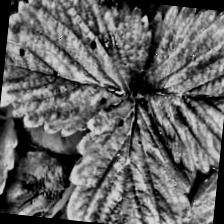Leaf Spot: (0, 0, 156, 145), (63, 90, 204, 224), (128, 3, 224, 177)
